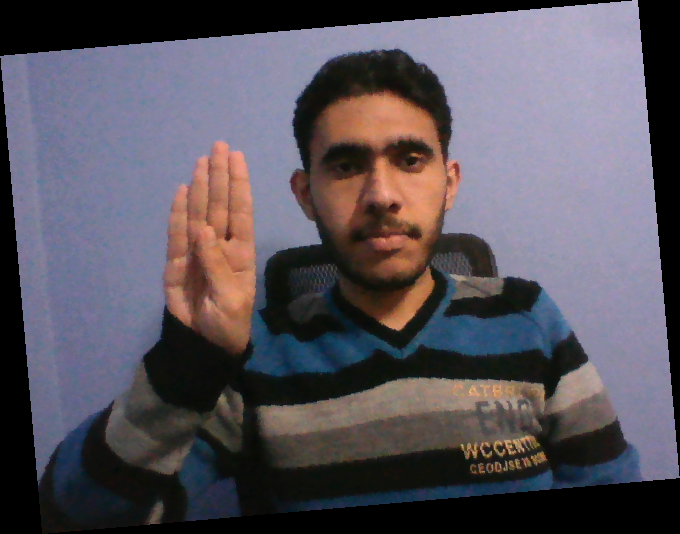B: (160, 140, 257, 354)
